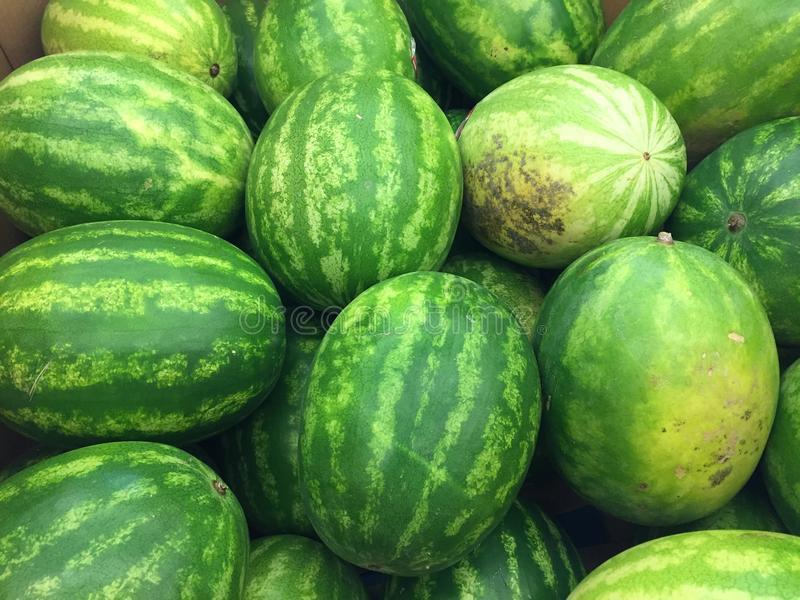dua_hau: (301, 270, 538, 572), (539, 232, 778, 527), (252, 67, 464, 272), (465, 60, 683, 233)
